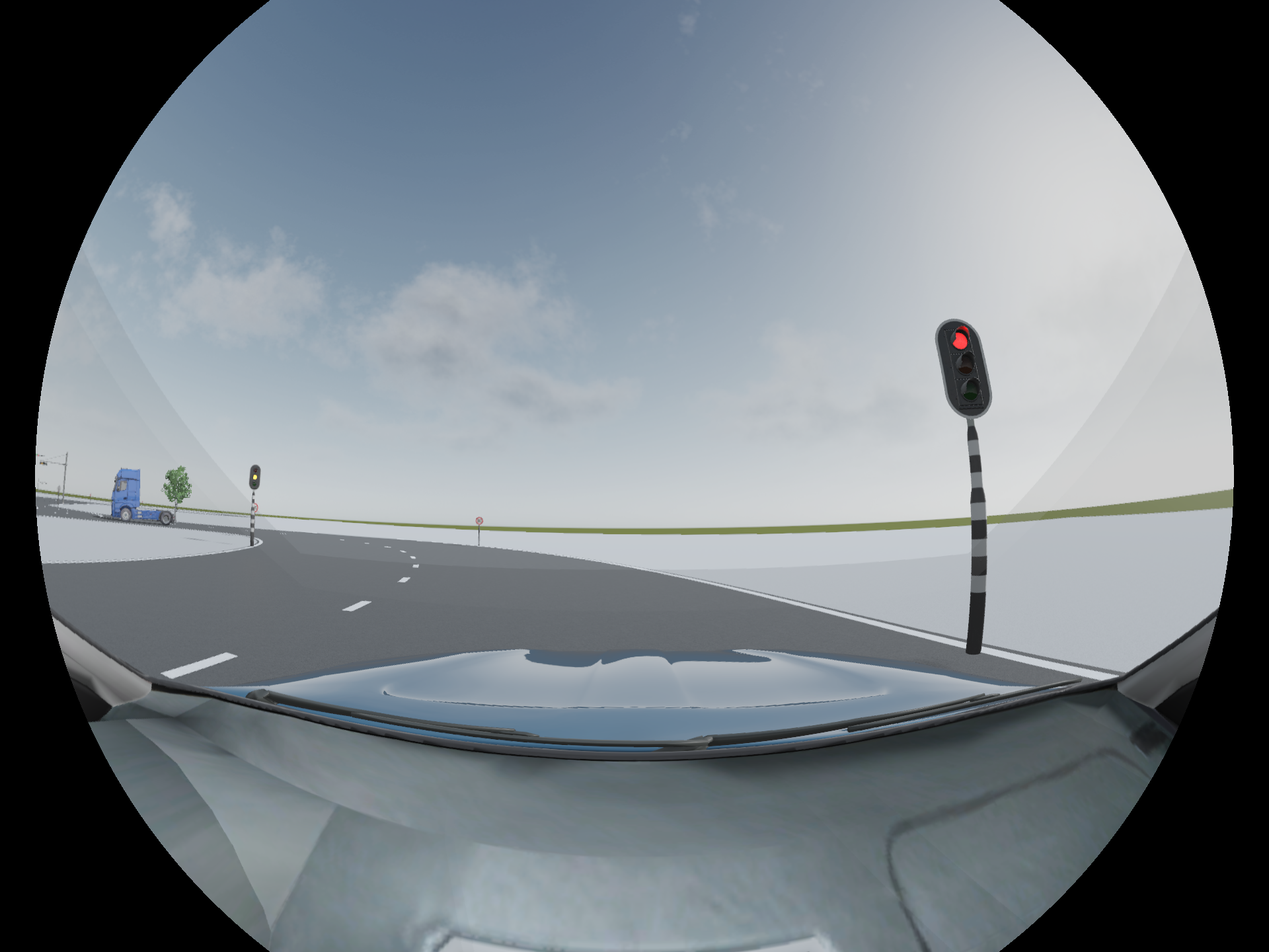Red Light: (934, 319, 997, 421)
